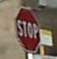stop: (12, 4, 41, 54)
